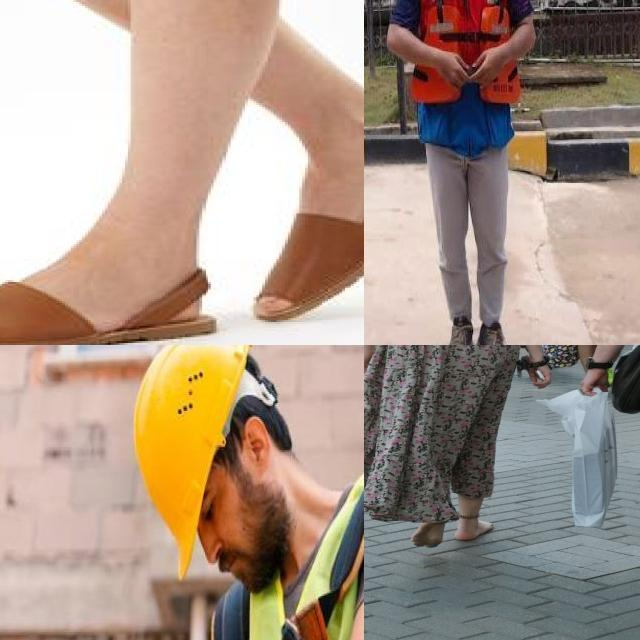Barefoots: (411, 513, 452, 548), (454, 520, 494, 541)
Harness: (281, 481, 364, 640)
Sandals: (246, 116, 364, 324), (0, 256, 225, 345)
boots: (475, 318, 514, 345), (444, 314, 472, 345)
person: (367, 0, 543, 345)
